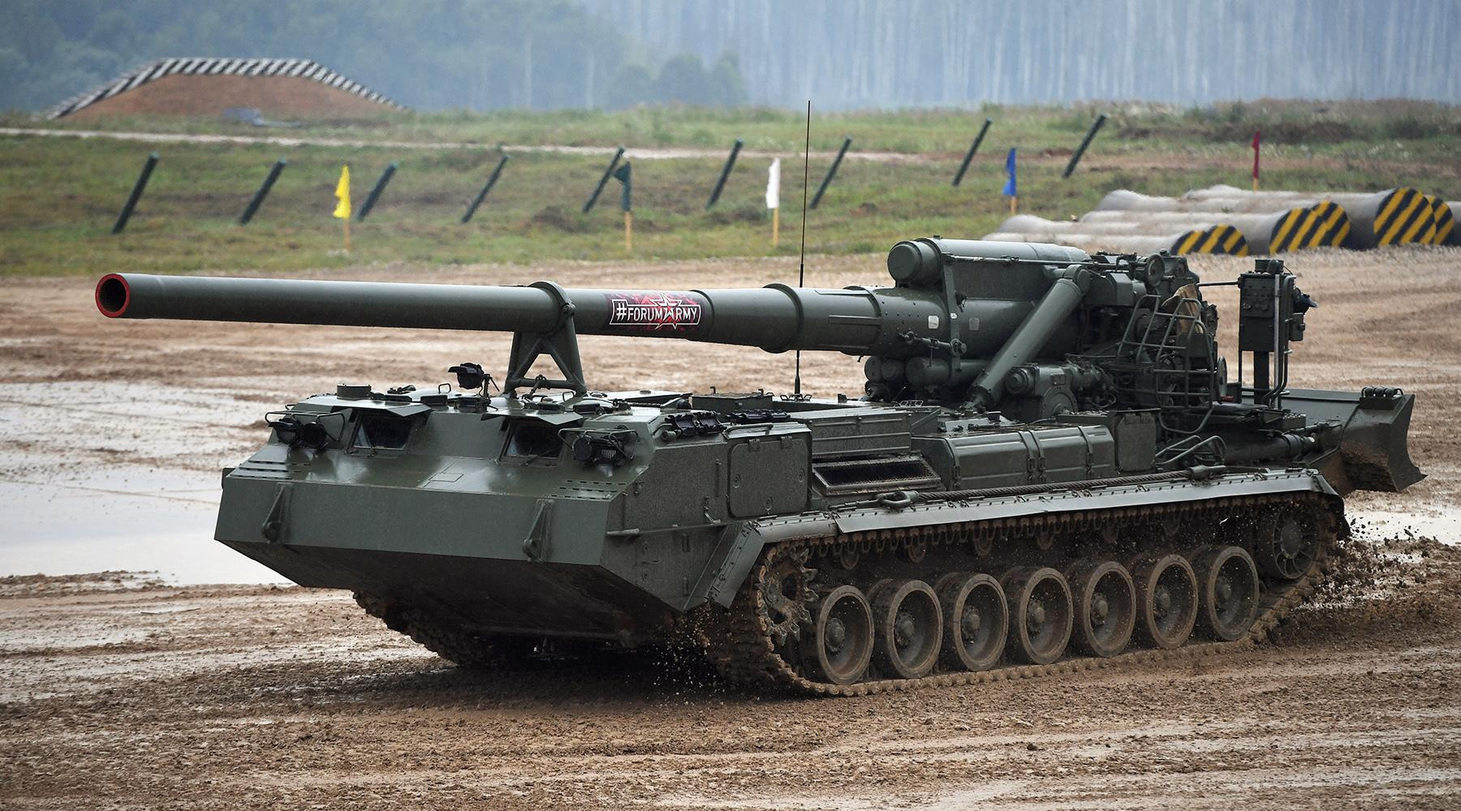sau: (73, 205, 1435, 695)
